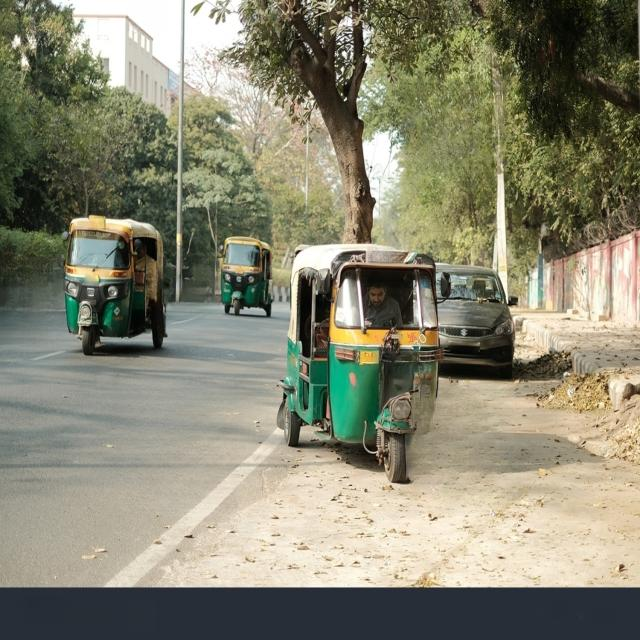autorickshaw: (278, 243, 441, 482), (64, 216, 166, 354), (220, 236, 272, 316)
car: (436, 263, 518, 379)
